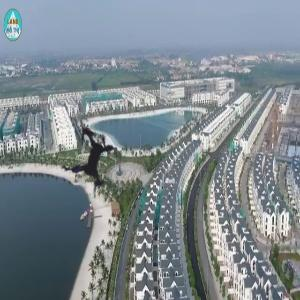drone: (27, 93, 156, 222)
